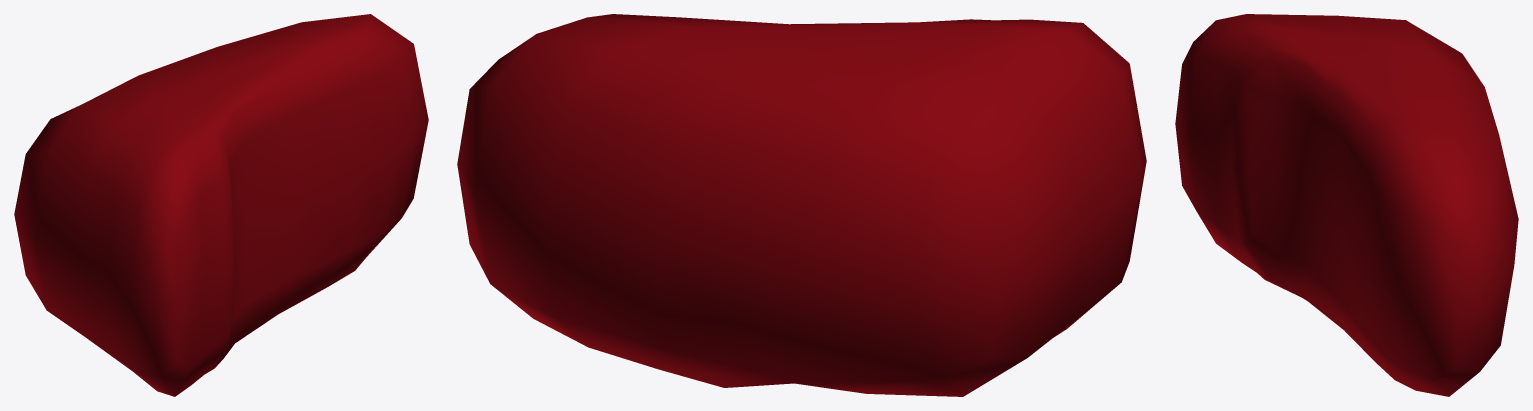
File: LIVER.fbx
3 views of the same model, side by side, from view 1: azimuth 30°, elevation 25°; view 2: azimuth 150°, elevation 25°; view 3: azimuth 270°, elevation 25° (orthographic). The views are drawn at different scales.
Visible parts, largest first — view 1: LIVER; view 2: LIVER; view 3: LIVER.
Part boxes in pixels (left/top/right/bottom): LIVER: left=14, top=14, right=428, bottom=396; LIVER: left=457, top=14, right=1146, bottom=396; LIVER: left=1175, top=14, right=1518, bottom=396.
Size of the model in its own units: 366 by 200 by 256.
